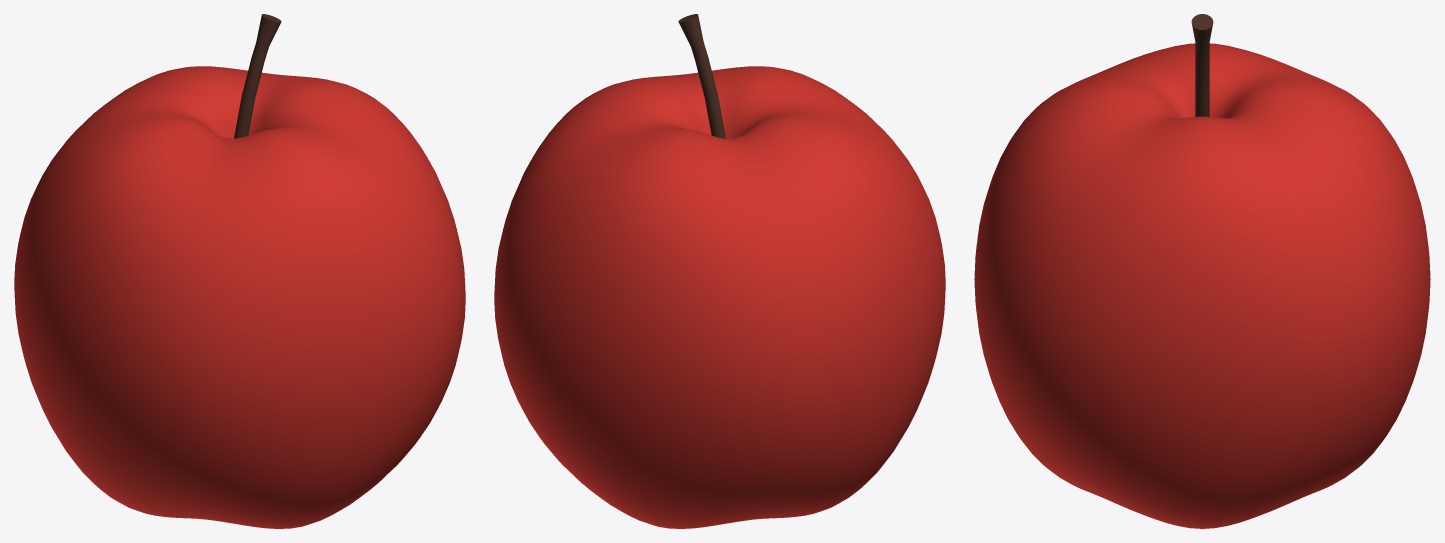
Rendered from apple.fbx.
The picture shows the model from 3 angles, left to right: view 1: azimuth 30°, elevation 25°; view 2: azimuth 150°, elevation 25°; view 3: azimuth 270°, elevation 25°; orthographic projection. The views are drawn at different scales.
Parts seen in each view (by area): view 1: apple; view 2: apple; view 3: apple.
Boxes of the visible parts, box(x1,y1,x2,y2) form: apple: box(14, 14, 465, 528); apple: box(494, 14, 945, 528); apple: box(974, 14, 1430, 528).
Size of the model in its own units: 175 by 205 by 175.
